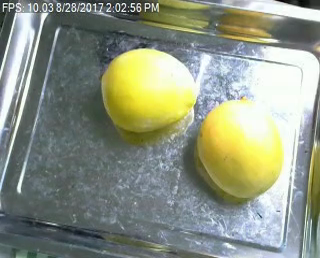Mango: (196, 98, 283, 198), (100, 48, 196, 132)
